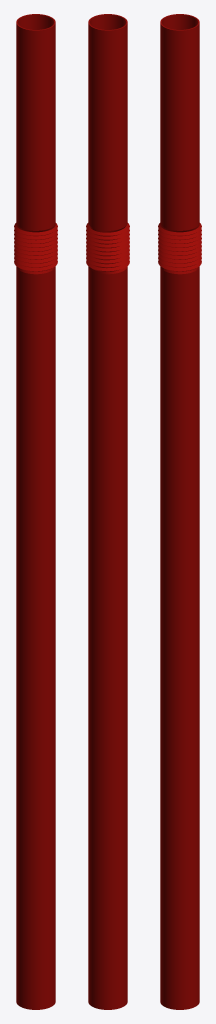
The model's file is straw.glb.
3 renders of one model, left to right at view 1: azimuth 90°, elevation 25°; view 2: azimuth 150°, elevation 25°; view 3: azimuth 270°, elevation 25°, orthographic.
Parts seen in each view (by area): view 1: straw_bottom, straw_top, straw_flex; view 2: straw_bottom, straw_top, straw_flex; view 3: straw_bottom, straw_top, straw_flex.
Part boxes in pixels (x1,y1,x2,y2): straw_bottom: [16, 269, 55, 1009]; straw_top: [16, 14, 55, 230]; straw_flex: [14, 223, 57, 276]; straw_bottom: [88, 269, 127, 1009]; straw_top: [88, 14, 127, 230]; straw_flex: [86, 223, 129, 276]; straw_bottom: [160, 269, 199, 1009]; straw_top: [160, 14, 199, 230]; straw_flex: [158, 223, 201, 276].
Bounding box in the file's own units: 0.00875 × 0.2161 × 0.00875.
